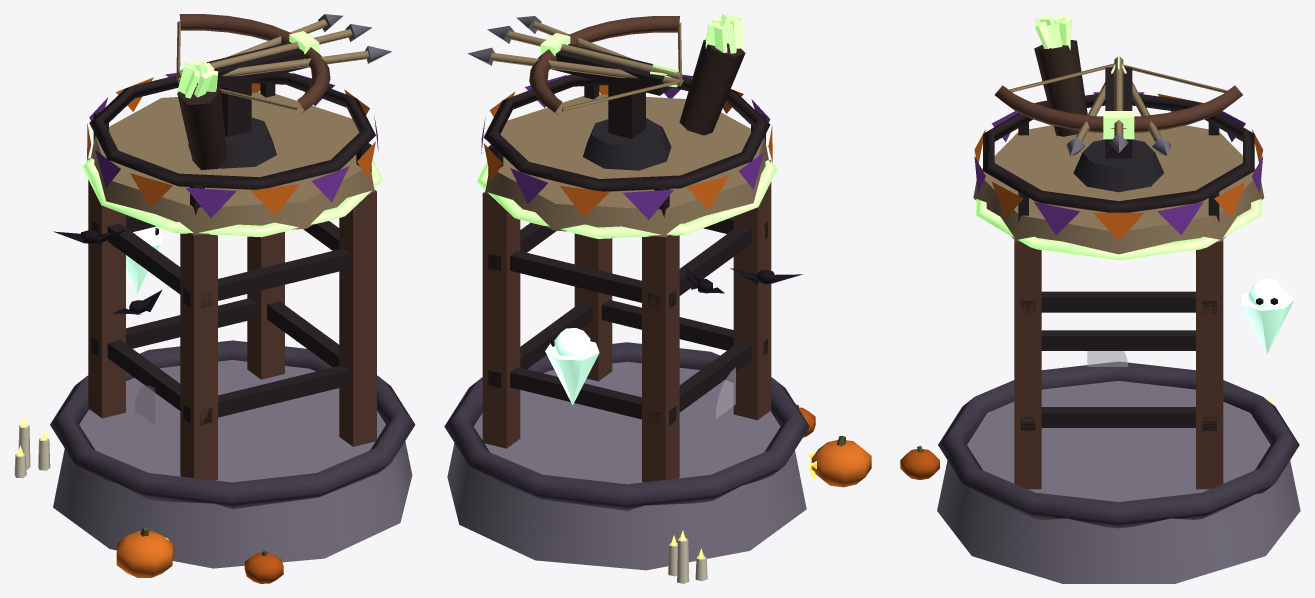
The model's file is tower_archer_volley.glb.
3 views of the same model, side by side, from view 1: azimuth 30°, elevation 25°; view 2: azimuth 150°, elevation 25°; view 3: azimuth 270°, elevation 25° (orthographic).
Parts seen in each view (by area): view 1: base, deck, base_rim, post_wn, post_en, rail, post_ws, deco_hw_bunting, post_es, beam_x_0_n, beam_x_1_n, deck_band (+18 smaller); view 2: base, deck, base_rim, post_ws, post_es, post_wn, rail, deco_hw_bunting, quiver, post_en, swivel, beam_x_1_s (+17 smaller); view 3: base, deck, base_rim, post_es, post_en, rail, deco_hw_bunting, bow, beam_z_1_e, swivel, beam_z_0_e, beam_z_0_w (+9 smaller).
Part boxes in pixels (x1,y1,x2,y2): base: (53,360,412,568); deck: (91,92,374,234); base_rim: (50,340,415,508); post_wn: (180,233,217,480); post_en: (339,189,376,446); rail: (89,72,375,189); post_ws: (88,158,125,418); deco_hw_bunting: (87,73,378,217); post_es: (247,231,284,379); beam_x_0_n: (183,365,349,423); beam_x_1_n: (183,248,349,307); deck_band: (82,158,383,237); base: (447,361,806,570); deck: (485,94,768,236); base_rim: (444,342,809,510); post_ws: (642,235,679,482); post_es: (482,191,520,448); post_wn: (733,160,771,420); rail: (483,74,770,191); deco_hw_bunting: (481,75,772,219); quiver: (679,39,745,135); post_en: (574,233,612,381); swivel: (583,118,671,170); beam_x_1_s: (510,250,676,308); base: (937,381,1300,583); deck: (973,125,1264,254); base_rim: (938,361,1299,528); post_es: (1196,240,1223,489); post_en: (1014,240,1041,489); rail: (983,93,1254,212); deco_hw_bunting: (974,92,1263,241); bow: (995,85,1242,132); beam_z_1_e: (1041,291,1195,312); swivel: (1073,139,1163,192); beam_z_0_e: (1041,407,1195,427); beam_z_0_w: (1041,330,1195,350).
Bounding box in the file's own units: 0.4215 × 0.5582 × 0.4404.
